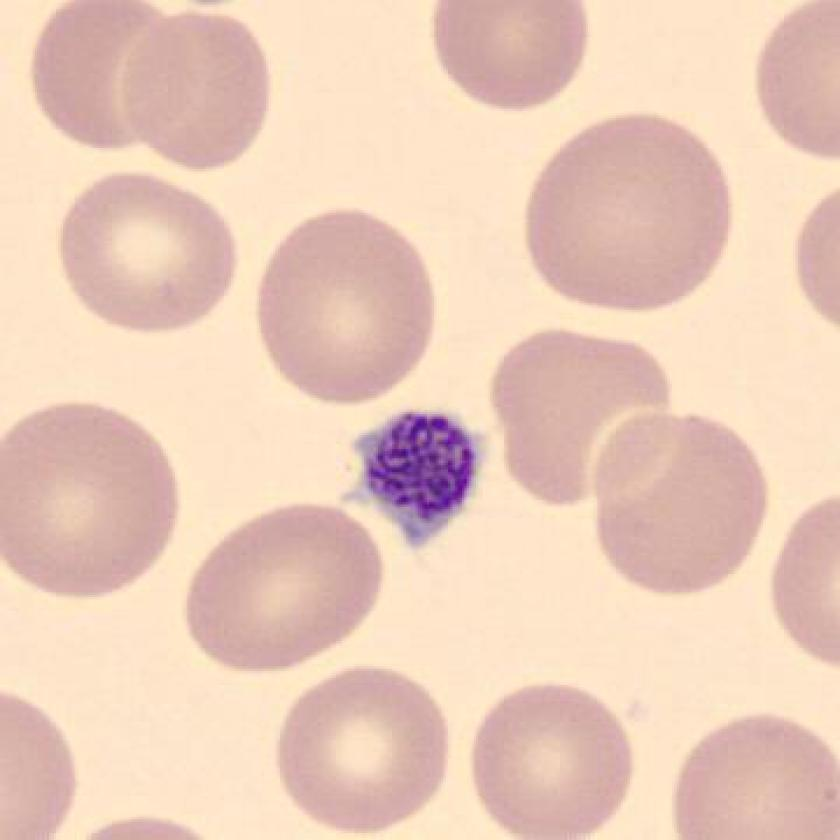platelets: (339, 397, 496, 561)
